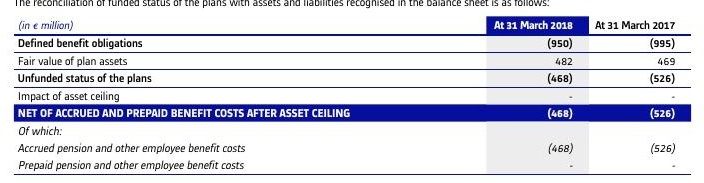table: (0, 0, 704, 183)
